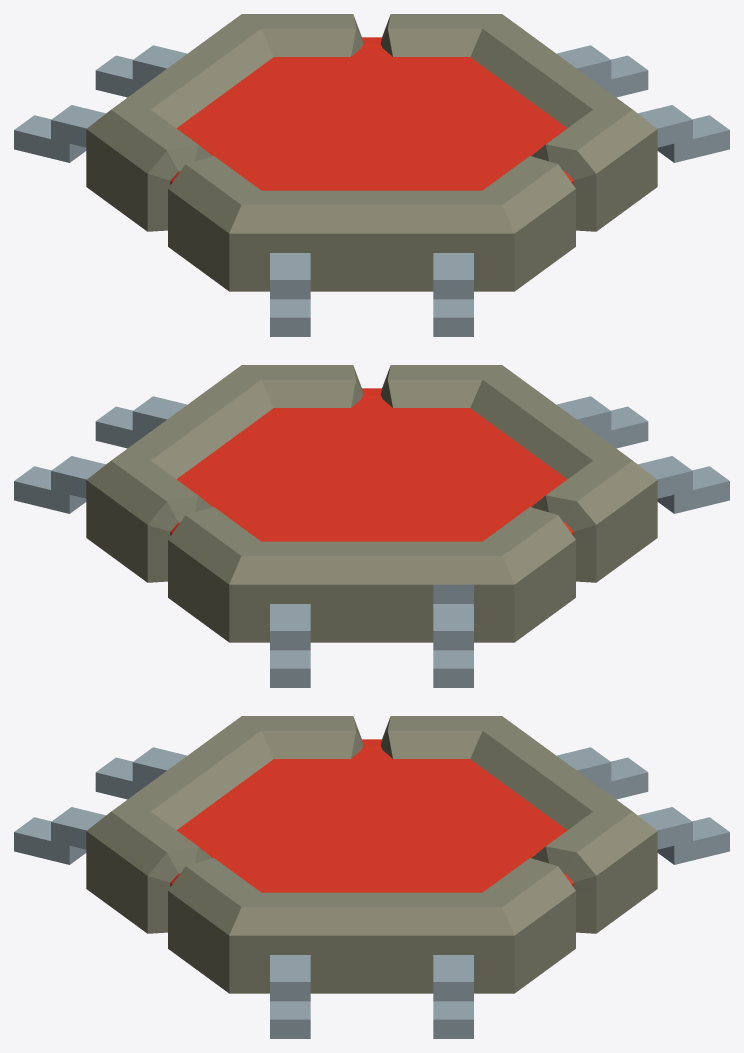
File: reclaimator.glb
3 views of the same model, one above another, from view 1: azimuth 30°, elevation 25°; view 2: azimuth 150°, elevation 25°; view 3: azimuth 270°, elevation 25° (orthographic).
Parts seen in each view (by area): view 1: Circle.003; view 2: Circle.003; view 3: Circle.003.
Part boxes in pixels (x1,y1,x2,y2): Circle.003: (14, 14, 729, 336); Circle.003: (14, 365, 729, 687); Circle.003: (14, 716, 729, 1038).
Size of the model in its own units: 1.45 by 0.1992 by 1.67.
